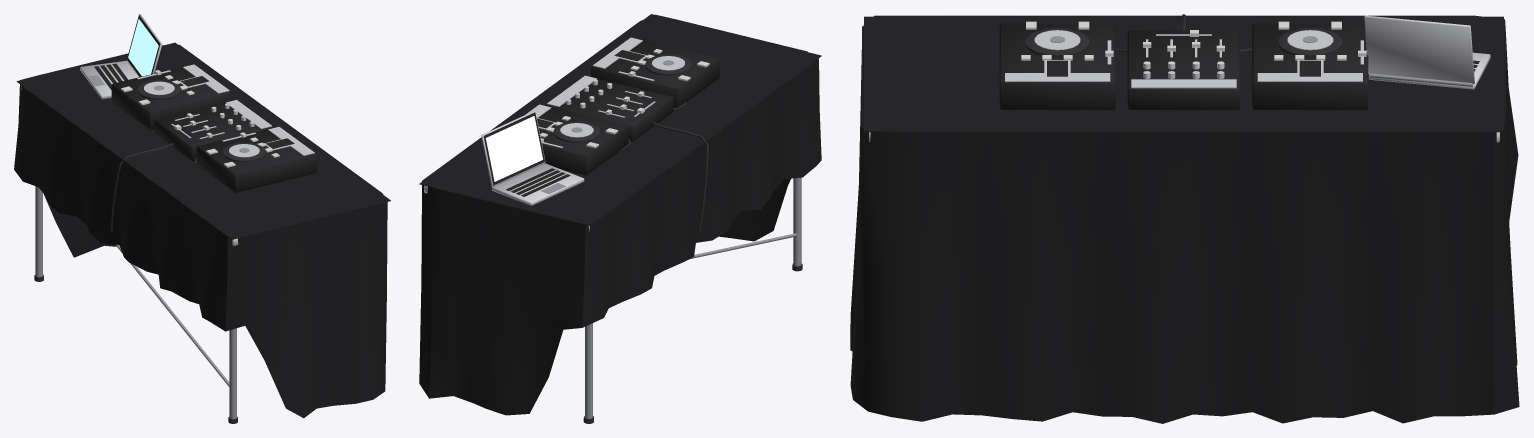
File: dj-table.glb
3 views of the same model, side by side, from view 1: azimuth 30°, elevation 25°; view 2: azimuth 150°, elevation 25°; view 3: azimuth 270°, elevation 25° (orthographic). The views are drawn at different scales.
Parts seen in each view (by area): view 1: SM_Jam_DjTable; view 2: SM_Jam_DjTable; view 3: SM_Jam_DjTable.
Part boxes in pixels (<box>): SM_Jam_DjTable: <box>14,14,390,423</box>; SM_Jam_DjTable: <box>419,14,821,423</box>; SM_Jam_DjTable: <box>850,14,1519,423</box>.
Bounding box in the file's own units: 0.8618 × 1.13 × 1.91.
